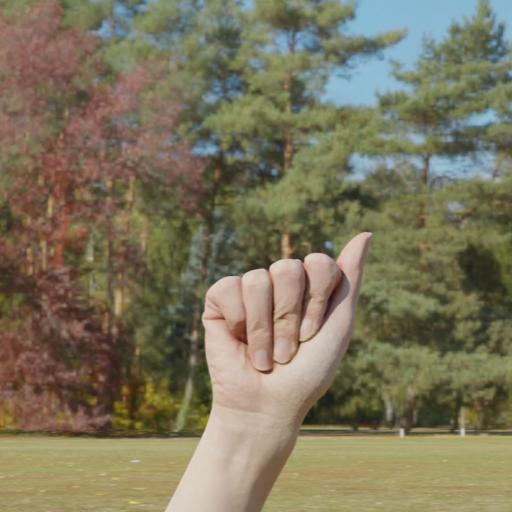A: (178, 222, 394, 453)
